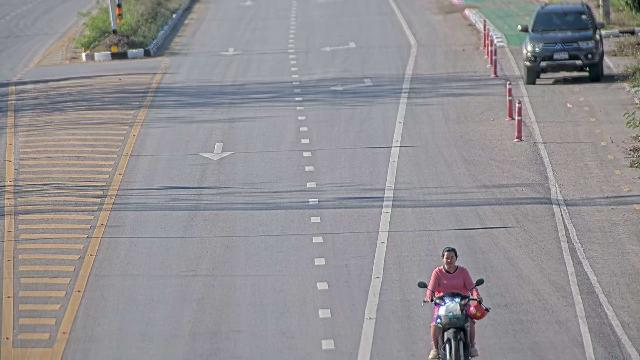motorcycle: (417, 244, 482, 358)
pickup-truck: (516, 1, 606, 85)
